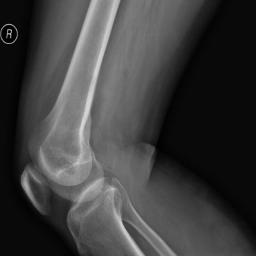cancer: (79, 111, 93, 146)
